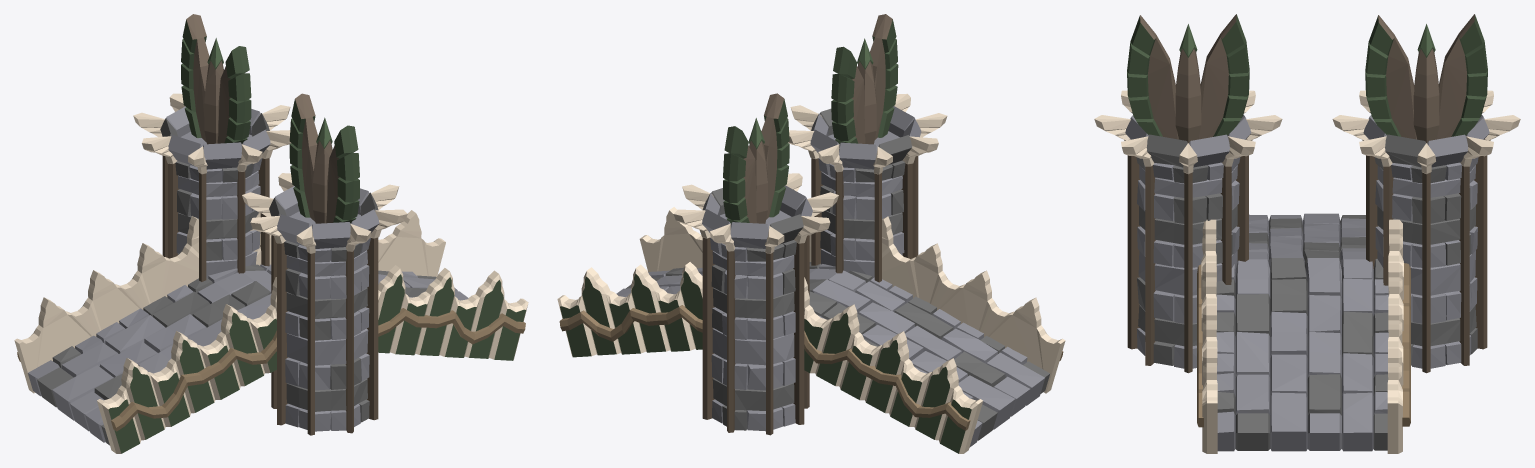
File: bridge_full.fbx
3 renders of one model, left to right at view 1: azimuth 30°, elevation 25°; view 2: azimuth 150°, elevation 25°; view 3: azimuth 270°, elevation 25°, orthographic. The views are drawn at different scales.
Visible parts, largest first — view 1: BRIDGE_MAIN1, PROPS_UP_01, PROPS_UP_02, BRIDGE_MAIN2, PROPS_1_BASE_01, PROPS_1_BASE_02; view 2: BRIDGE_MAIN1, PROPS_UP_02, PROPS_UP_01, BRIDGE_MAIN2, PROPS_1_BASE_02, PROPS_1_BASE_01; view 3: BRIDGE_MAIN2, PROPS_UP_01, PROPS_UP_02, PROPS_1_BASE_02, PROPS_1_BASE_01, BRIDGE_MAIN1.
Part boxes in pixels (x1,y1,x2,y2): BRIDGE_MAIN1: [14, 216, 276, 453]; PROPS_UP_01: [242, 93, 407, 324]; PROPS_UP_02: [133, 14, 290, 244]; BRIDGE_MAIN2: [244, 210, 528, 360]; PROPS_1_BASE_01: [271, 307, 378, 435]; PROPS_1_BASE_02: [162, 216, 269, 281]; BRIDGE_MAIN1: [804, 216, 1065, 453]; PROPS_UP_02: [673, 93, 838, 323]; PROPS_UP_01: [788, 14, 947, 244]; BRIDGE_MAIN2: [557, 207, 836, 357]; PROPS_1_BASE_02: [702, 307, 809, 435]; PROPS_1_BASE_01: [811, 216, 918, 282]; BRIDGE_MAIN2: [1197, 219, 1410, 453]; PROPS_UP_01: [1094, 14, 1282, 250]; PROPS_UP_02: [1332, 14, 1520, 250]; PROPS_1_BASE_02: [1366, 225, 1487, 373]; PROPS_1_BASE_01: [1127, 226, 1248, 373]; BRIDGE_MAIN1: [1249, 213, 1365, 270].
Size of the model in its own units: 1343 by 920 by 1067.
